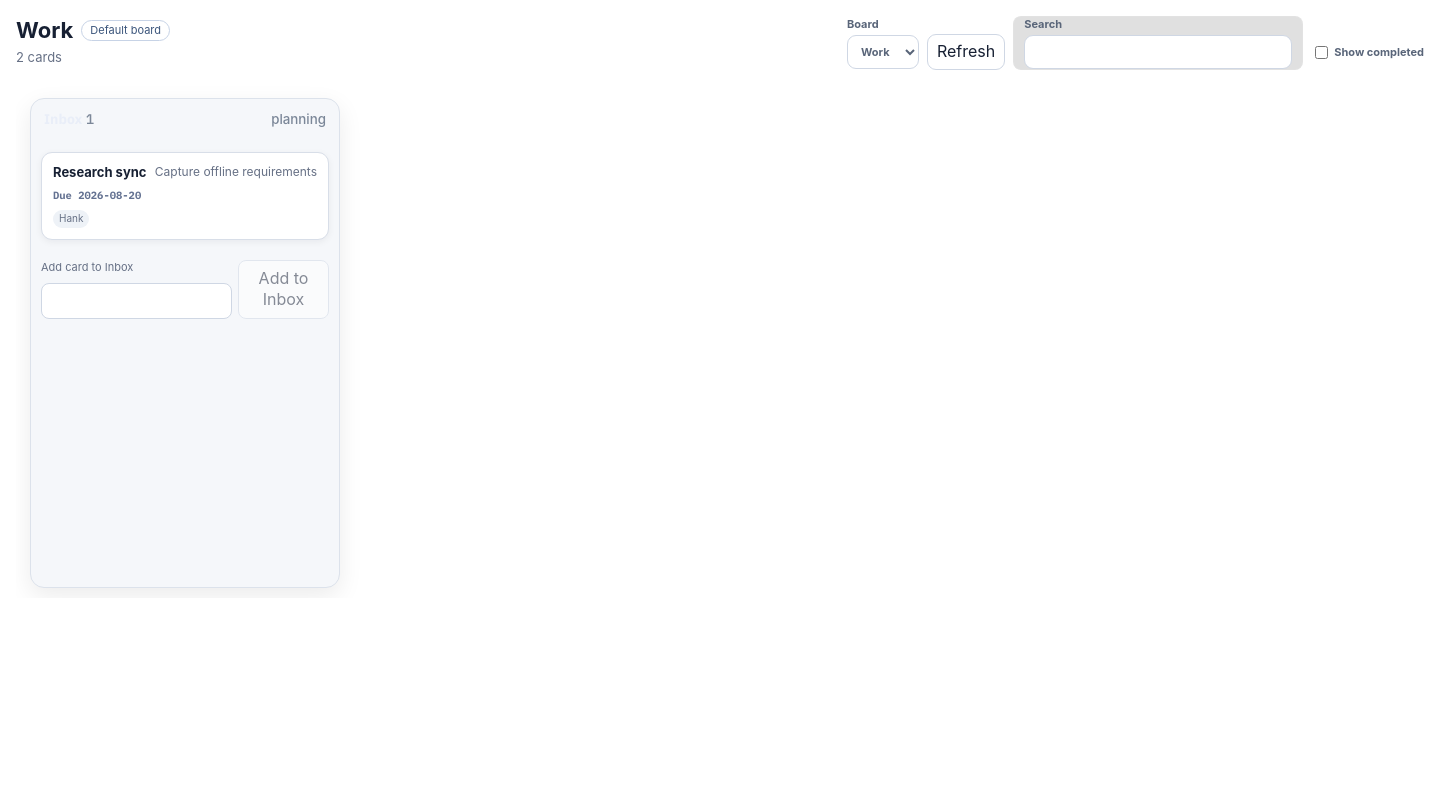
KanbanApp browsing › renders board controls, active columns, and searchable cards
The width and height of the screenshot is (1440, 810).
Expected: the heading "Work" is shown, [16, 16, 73, 46]
Expected: the dropdown labelled "Board" shows "Work", [847, 35, 919, 69]
Click the checkbox named "Show completed cards" at [1322, 53], box [1315, 46, 1328, 59]
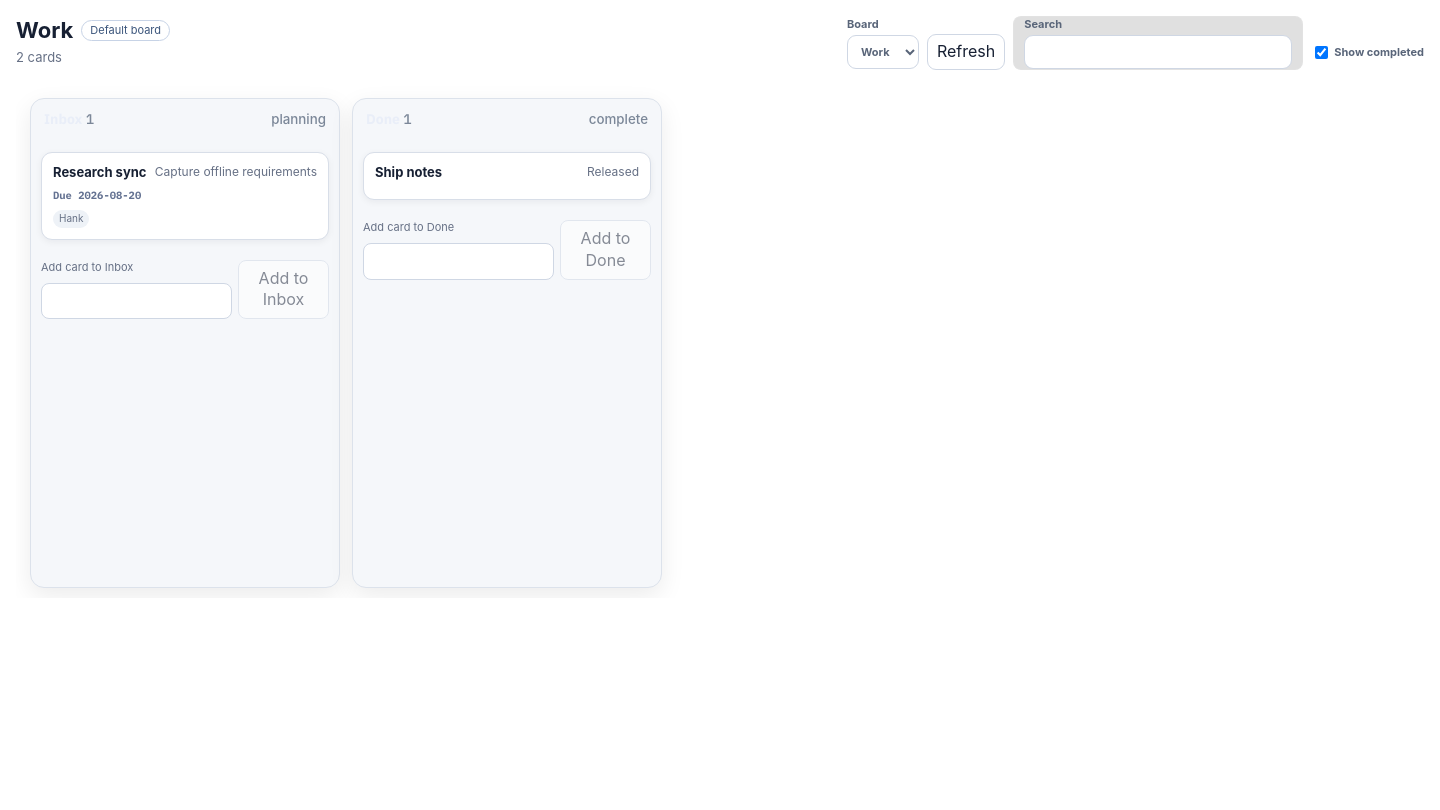
Expected: the button "Ship notes Released" is shown, [363, 152, 651, 200]
Type "offline" into the search field named "Search cards" at [1158, 52], box [1024, 35, 1292, 69]
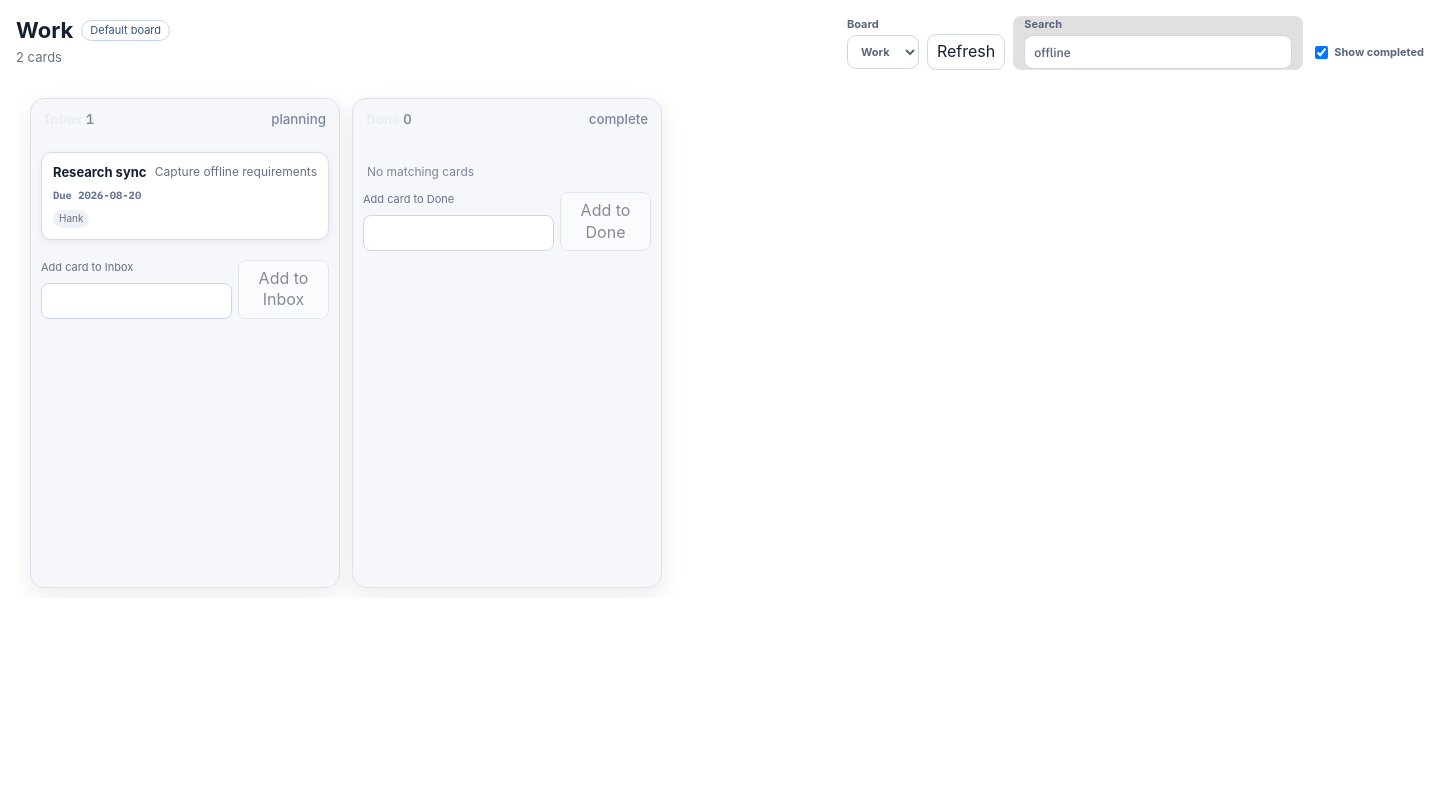
Expected: the button "Research sync" is shown, [41, 152, 329, 240]
Expected: the button "Ship notes" is gone
